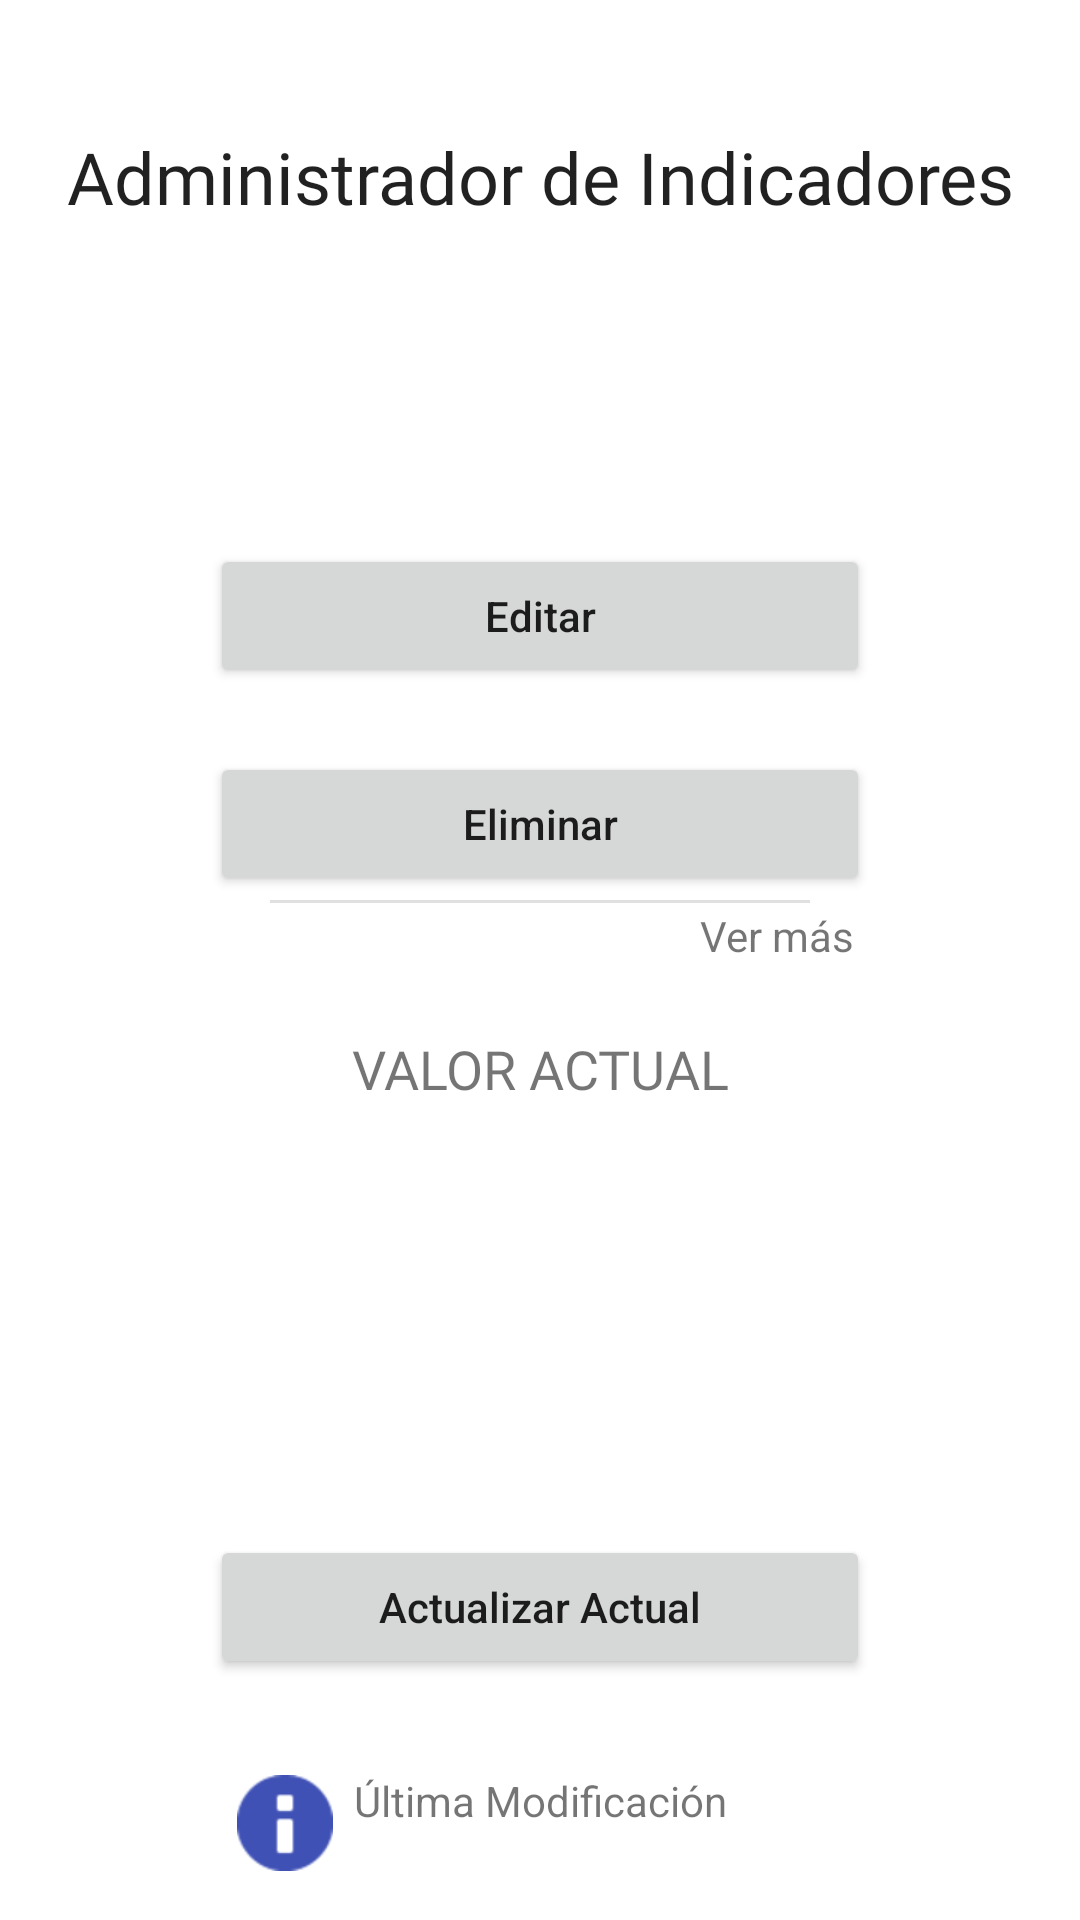

Named icons in this screenshot (1080*1920) and their centers, [x,y]:
info: [285,1823]
